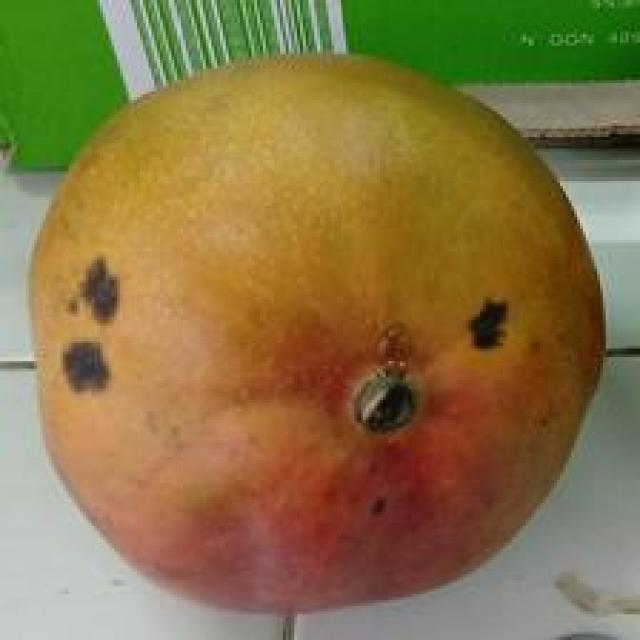Mango: (23, 55, 602, 614)
